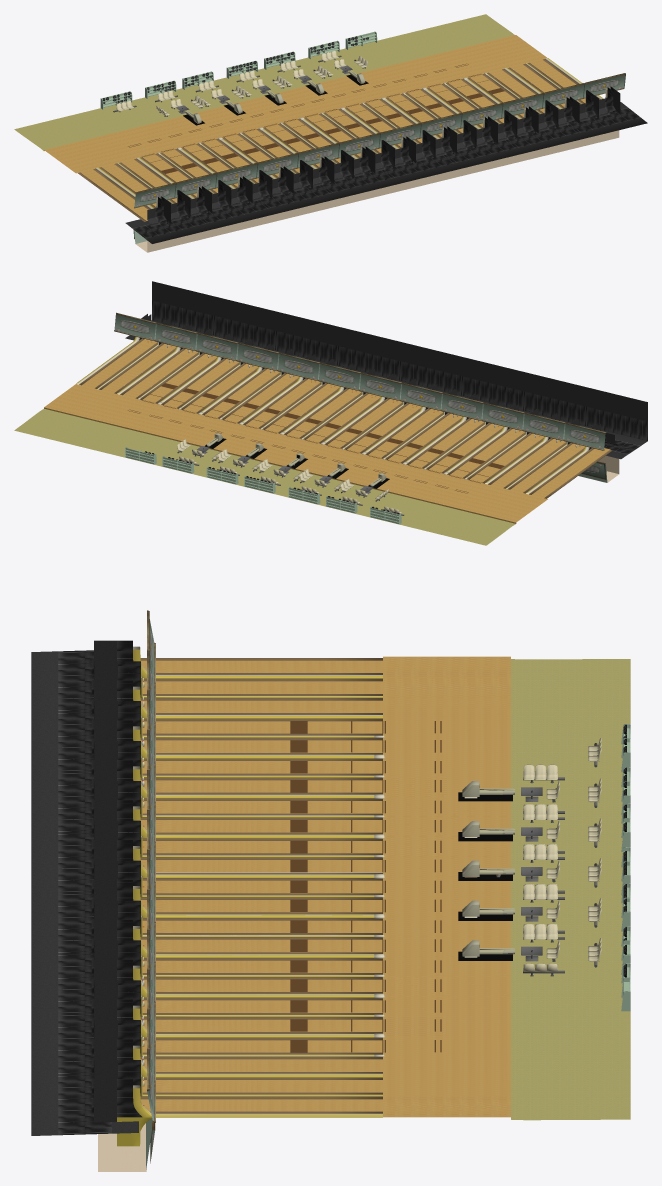
Rendered from bowling-alley.glb.
3 views of the same model, one above another, from view 1: azimuth 30°, elevation 25°; view 2: azimuth 150°, elevation 25°; view 3: azimuth 270°, elevation 25° (orthographic). The views are drawn at different scales.
Visible parts, largest first — view 1: polygon139, polygon0, polygon477, polygon1, polygon16, polygon113, polygon29, polygon119, polygon11, polygon252, polygon309, polygon376 (+3 smaller); view 2: polygon139, polygon1, polygon0, polygon477, polygon16, polygon113, polygon119, polygon252, polygon11, polygon309, polygon310, polygon8; view 3: polygon1, polygon0, polygon139, polygon477, polygon113, polygon119, polygon11, polygon309, polygon16, polygon252, polygon310, polygon8 (+2 smaller).
Part boxes in pixels (bbox=[...]): polygon139: bbox=[125, 86, 647, 243]; polygon0: bbox=[44, 35, 546, 173]; polygon477: bbox=[14, 14, 514, 150]; polygon1: bbox=[44, 59, 585, 220]; polygon16: bbox=[134, 73, 625, 208]; polygon113: bbox=[78, 59, 599, 221]; polygon29: bbox=[135, 130, 619, 252]; polygon119: bbox=[95, 58, 607, 208]; polygon11: bbox=[128, 63, 504, 173]; polygon252: bbox=[100, 31, 377, 109]; polygon309: bbox=[116, 51, 367, 115]; polygon376: bbox=[103, 36, 368, 103]; polygon139: bbox=[125, 281, 647, 459]; polygon1: bbox=[44, 339, 610, 523]; polygon0: bbox=[44, 384, 547, 522]; polygon477: bbox=[14, 409, 515, 545]; polygon16: bbox=[114, 312, 606, 450]; polygon113: bbox=[79, 338, 612, 498]; polygon119: bbox=[76, 336, 589, 493]; polygon252: bbox=[125, 447, 401, 524]; polygon11: bbox=[128, 383, 504, 493]; polygon309: bbox=[177, 439, 401, 513]; polygon310: bbox=[176, 446, 404, 515]; polygon8: bbox=[207, 433, 386, 486]; polygon1: bbox=[140, 660, 382, 1111]; polygon0: bbox=[383, 656, 510, 1117]; polygon139: bbox=[31, 640, 142, 1135]; polygon477: bbox=[511, 659, 630, 1120]; polygon113: bbox=[140, 658, 382, 1113]; polygon119: bbox=[133, 646, 384, 1117]; polygon11: bbox=[290, 721, 441, 1052]; polygon309: bbox=[523, 738, 601, 971]; polygon16: bbox=[147, 610, 155, 1122]; polygon252: bbox=[621, 724, 630, 1011]; polygon310: bbox=[521, 743, 597, 976]; polygon8: bbox=[462, 781, 514, 956].
Bounding box in the file's own units: 4.14 × 0.4937 × 2.14.
Materials: 29 (29 with a texture image).
